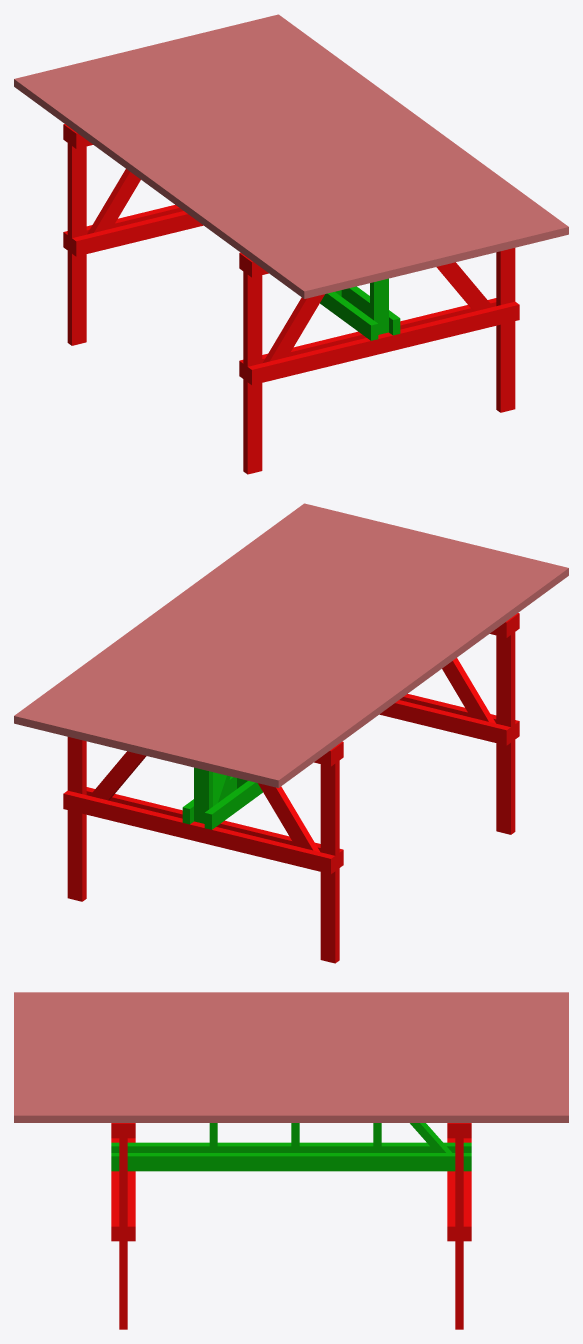
Rendered from result.glb.
The picture shows the model from 3 angles, top to bottom: view 1: azimuth 30°, elevation 25°; view 2: azimuth 150°, elevation 25°; view 3: azimuth 270°, elevation 25°; orthographic projection. The views are drawn at different scales.
Visible parts, largest first — view 1: 3bf41538-ce4a-45c7-a434-bc67c929d5ea__Box, 5b6f1abf-661e-4742-a3ea-3d170880919c__sideH, eebeb368-b2a3-46cd-8828-e19cdf5a64ff__undefined, 48b3d2d0-e719-43ca-b0dc-1441f64dac90__undefined, 86f37a94-3fe9-43ad-bfcf-90aa2a40e324__undefined, 8a979bac-bfd2-40a8-a5db-3297fd2b7360__undefined, c49b5319-fa01-41ac-9c8f-3ee68d55f591__undefined, c81197c3-50f4-418f-8c24-bd11211272cf__undefined, 5930c5a3-f37f-4693-97ca-e92bd1018aee__undefined, 16aa7a0c-6fe4-40ba-902b-8e07d9cdacf9__undefined, d87ccbf7-4436-43d6-912f-6f0424684be2__undefined, 55abc04f-42d8-4e8e-bc50-3b6372f9600a__undefined (+19 smaller); view 2: 3bf41538-ce4a-45c7-a434-bc67c929d5ea__Box, c0bb09af-6b50-4382-ae36-2673f2dcfd33__undefined, eebeb368-b2a3-46cd-8828-e19cdf5a64ff__undefined, 48b3d2d0-e719-43ca-b0dc-1441f64dac90__undefined, 86f37a94-3fe9-43ad-bfcf-90aa2a40e324__undefined, 8a979bac-bfd2-40a8-a5db-3297fd2b7360__undefined, c49b5319-fa01-41ac-9c8f-3ee68d55f591__undefined, c81197c3-50f4-418f-8c24-bd11211272cf__undefined, 5930c5a3-f37f-4693-97ca-e92bd1018aee__undefined, 16aa7a0c-6fe4-40ba-902b-8e07d9cdacf9__undefined, d87ccbf7-4436-43d6-912f-6f0424684be2__undefined, 55abc04f-42d8-4e8e-bc50-3b6372f9600a__undefined (+18 smaller); view 3: a0dcf3b2-73b6-41e9-98a9-d2528c68f297__undefined, 30b6a9bd-ffb8-47b4-ae47-9cf053b08b4c__strutH, 55abc04f-42d8-4e8e-bc50-3b6372f9600a__undefined, f093131a-f8dc-4a38-b7b3-5c2c3760c6ab__undefined, eebeb368-b2a3-46cd-8828-e19cdf5a64ff__undefined, 5930c5a3-f37f-4693-97ca-e92bd1018aee__undefined, 0f7d6422-1684-4002-88a9-3bfbfea50afd__undefined, c81197c3-50f4-418f-8c24-bd11211272cf__undefined, 86f37a94-3fe9-43ad-bfcf-90aa2a40e324__undefined, fd6cfc25-eaff-4f09-8f68-90d7d5dea914__undefined, 3bf41538-ce4a-45c7-a434-bc67c929d5ea__Box, 16aa7a0c-6fe4-40ba-902b-8e07d9cdacf9__undefined (+15 smaller).
Part boxes in pixels (x1,y1,x2,y2): 3bf41538-ce4a-45c7-a434-bc67c929d5ea__Box: (14, 75, 318, 298); 5b6f1abf-661e-4742-a3ea-3d170880919c__sideH: (247, 301, 519, 385); eebeb368-b2a3-46cd-8828-e19cdf5a64ff__undefined: (102, 54, 407, 277); 48b3d2d0-e719-43ca-b0dc-1441f64dac90__undefined: (147, 43, 451, 266); 86f37a94-3fe9-43ad-bfcf-90aa2a40e324__undefined: (205, 29, 510, 252); 8a979bac-bfd2-40a8-a5db-3297fd2b7360__undefined: (249, 18, 554, 241); c49b5319-fa01-41ac-9c8f-3ee68d55f591__undefined: (43, 68, 348, 291); c81197c3-50f4-418f-8c24-bd11211272cf__undefined: (191, 32, 495, 255); 5930c5a3-f37f-4693-97ca-e92bd1018aee__undefined: (117, 50, 421, 273); 16aa7a0c-6fe4-40ba-902b-8e07d9cdacf9__undefined: (29, 72, 333, 295); d87ccbf7-4436-43d6-912f-6f0424684be2__undefined: (58, 64, 362, 288); 55abc04f-42d8-4e8e-bc50-3b6372f9600a__undefined: (73, 61, 377, 284); 3bf41538-ce4a-45c7-a434-bc67c929d5ea__Box: (264, 564, 568, 787); c0bb09af-6b50-4382-ae36-2673f2dcfd33__undefined: (63, 790, 335, 874); eebeb368-b2a3-46cd-8828-e19cdf5a64ff__undefined: (175, 543, 480, 766); 48b3d2d0-e719-43ca-b0dc-1441f64dac90__undefined: (131, 532, 435, 755); 86f37a94-3fe9-43ad-bfcf-90aa2a40e324__undefined: (72, 518, 377, 741); 8a979bac-bfd2-40a8-a5db-3297fd2b7360__undefined: (28, 507, 333, 730); c49b5319-fa01-41ac-9c8f-3ee68d55f591__undefined: (234, 557, 539, 780); c81197c3-50f4-418f-8c24-bd11211272cf__undefined: (87, 521, 391, 744); 5930c5a3-f37f-4693-97ca-e92bd1018aee__undefined: (161, 539, 465, 762); 16aa7a0c-6fe4-40ba-902b-8e07d9cdacf9__undefined: (249, 561, 553, 784); d87ccbf7-4436-43d6-912f-6f0424684be2__undefined: (220, 553, 524, 777); 55abc04f-42d8-4e8e-bc50-3b6372f9600a__undefined: (205, 550, 509, 773); a0dcf3b2-73b6-41e9-98a9-d2528c68f297__undefined: (14, 1109, 568, 1122); 30b6a9bd-ffb8-47b4-ae47-9cf053b08b4c__strutH: (111, 1153, 471, 1171); 55abc04f-42d8-4e8e-bc50-3b6372f9600a__undefined: (14, 1019, 568, 1026); f093131a-f8dc-4a38-b7b3-5c2c3760c6ab__undefined: (14, 1026, 568, 1033); eebeb368-b2a3-46cd-8828-e19cdf5a64ff__undefined: (14, 1033, 568, 1040); 5930c5a3-f37f-4693-97ca-e92bd1018aee__undefined: (14, 1040, 568, 1047); 0f7d6422-1684-4002-88a9-3bfbfea50afd__undefined: (14, 1067, 568, 1074); c81197c3-50f4-418f-8c24-bd11211272cf__undefined: (14, 1074, 568, 1081); 86f37a94-3fe9-43ad-bfcf-90aa2a40e324__undefined: (14, 1081, 568, 1088); fd6cfc25-eaff-4f09-8f68-90d7d5dea914__undefined: (14, 1088, 568, 1095); 3bf41538-ce4a-45c7-a434-bc67c929d5ea__Box: (14, 992, 568, 998); 16aa7a0c-6fe4-40ba-902b-8e07d9cdacf9__undefined: (14, 999, 568, 1005).
Size of the model in its own units: 910 by 725 by 1710.
